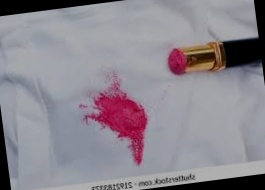lipstick: (88, 82, 155, 168)
